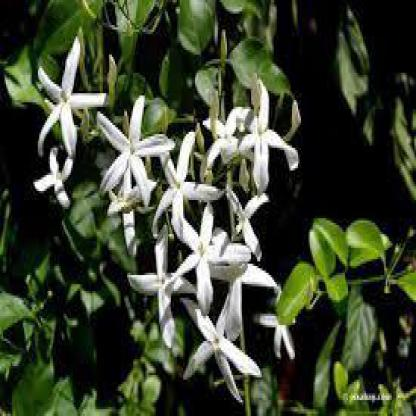Melati: (168, 108, 292, 369), (24, 33, 96, 206), (103, 101, 156, 233)
